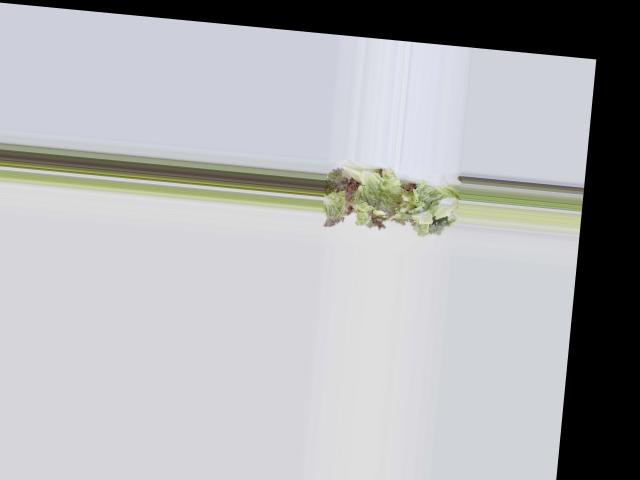lettuce: (325, 171, 453, 233)
